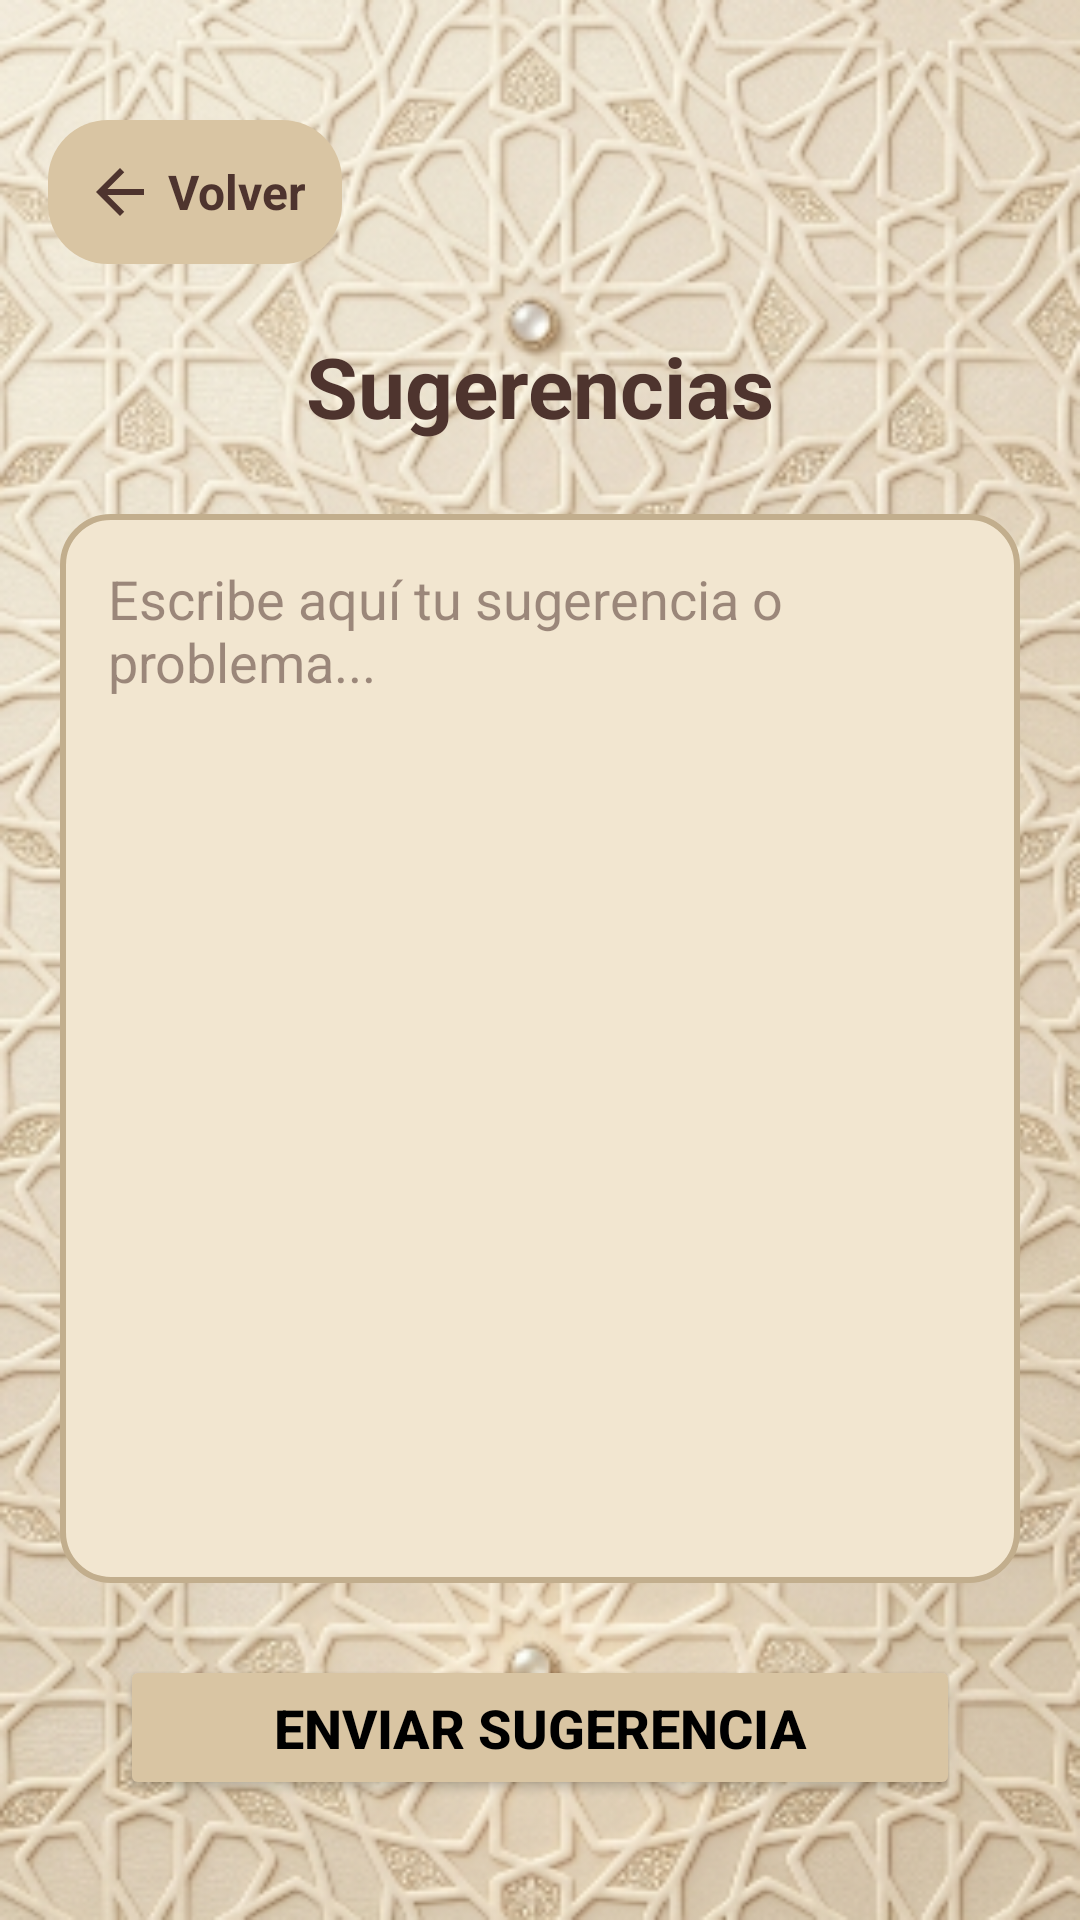

Icon click points for this 1080 x 1920 phone screenshot, format point (x, y):
back arrow: point (120, 192)
